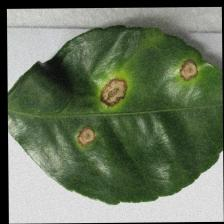canker: (64, 47, 214, 155)
